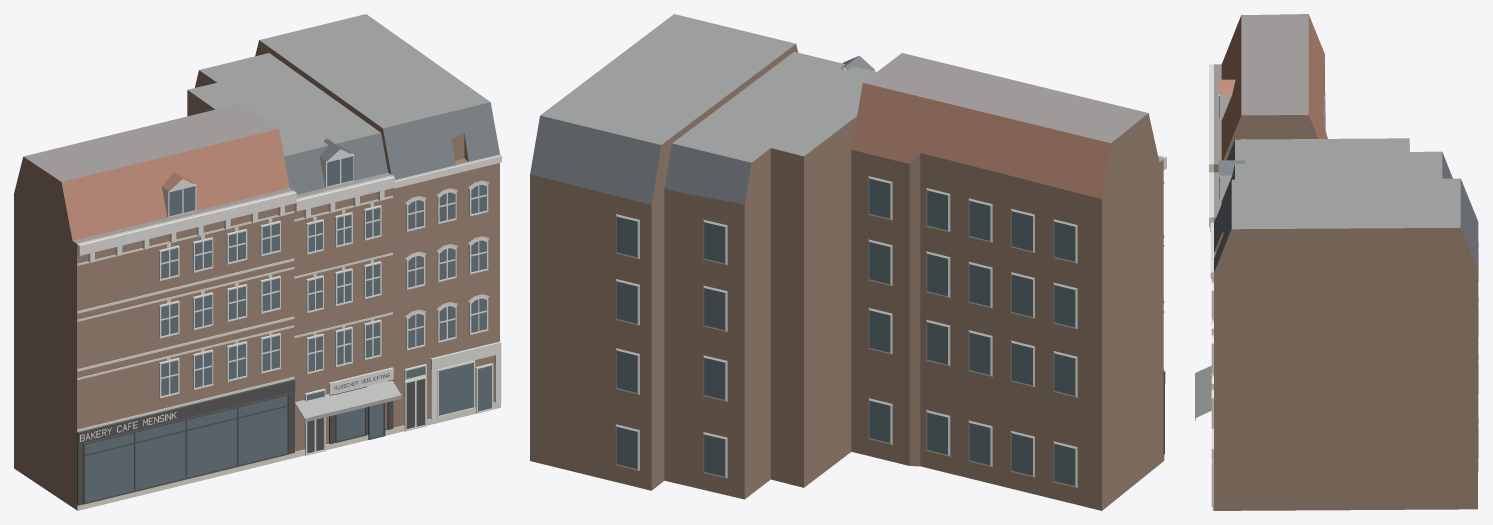
Rendered from chunk-face-bilder-133467-159649.glb.
3 renders of one model, left to right at view 1: azimuth 30°, elevation 25°; view 2: azimuth 150°, elevation 25°; view 3: azimuth 270°, elevation 25°, orthographic. The views are drawn at different scales.
Visible parts, largest first — view 1: face-bilder-133467-159649; view 2: face-bilder-133467-159649; view 3: face-bilder-133467-159649.
Part boxes in pixels (x1,y1,x2,y2): face-bilder-133467-159649: [14, 14, 501, 510]; face-bilder-133467-159649: [530, 14, 1166, 510]; face-bilder-133467-159649: [1195, 14, 1478, 510].
Size of the model in its own units: 24.42 by 17.37 by 14.88.
